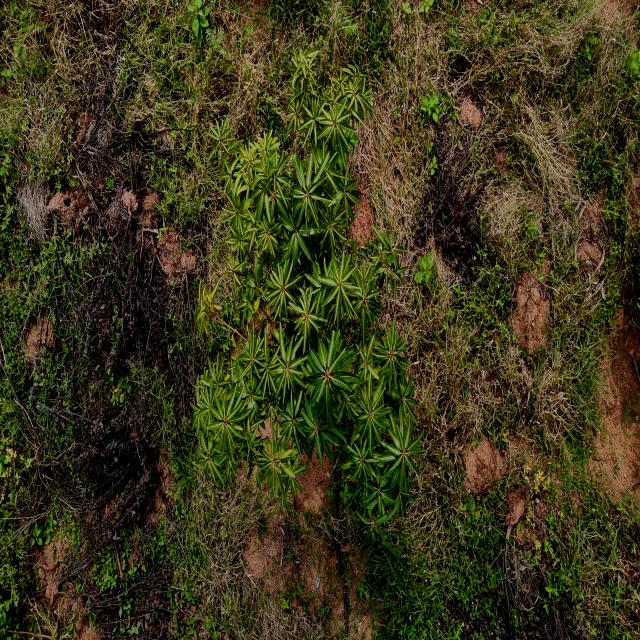mangoTree: (190, 43, 427, 529)
